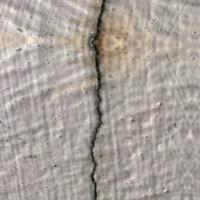crack: (62, 1, 136, 199)
